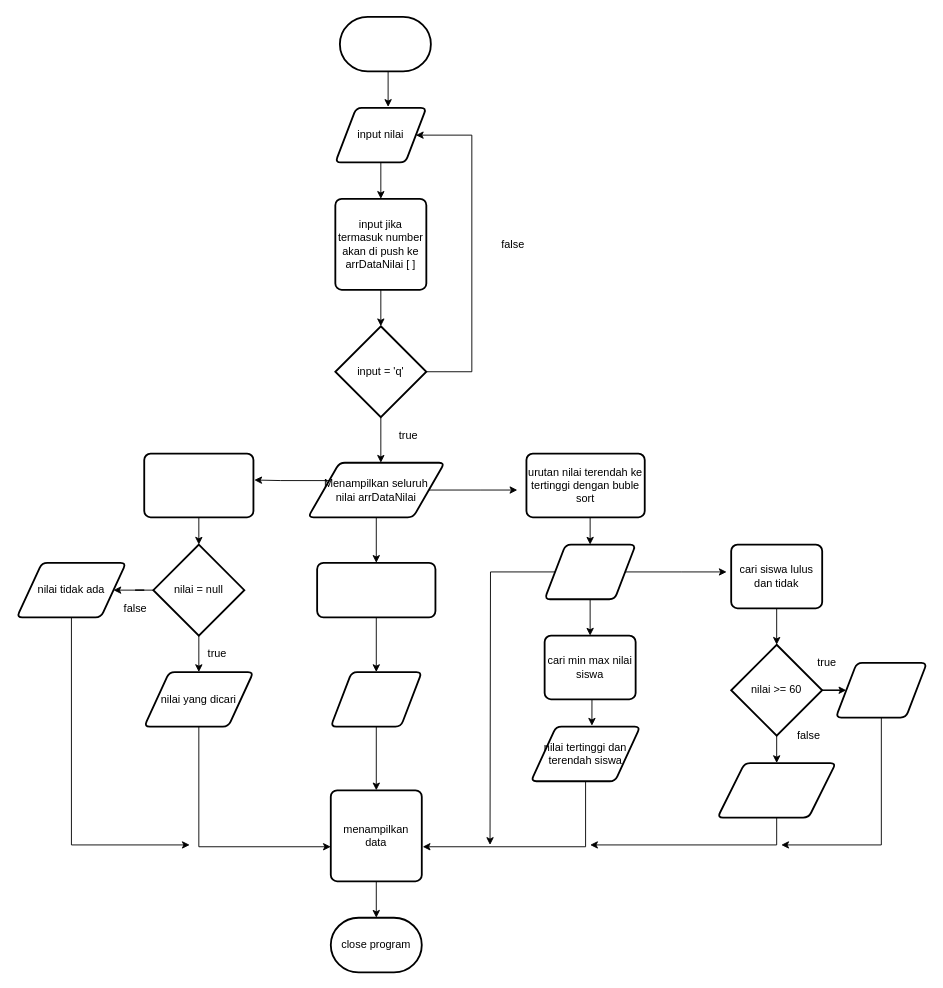
This 943x988 diagram has some shape labels left out. The shapes that lost their labels are listed below. From the top down, each one's centre as x and y in pixels, then its label:
At point (385, 43): "Program Input Nilai Siswa".
At point (198, 485): "mencari nilai tertentu".
At point (376, 589): "total/len(arrDataNilai)".
At point (589, 571): "nilai terurut".
At point (375, 699): "mean".
At point (880, 690): "siswa lulus".
At point (776, 790): "siswa tidak lulus".
